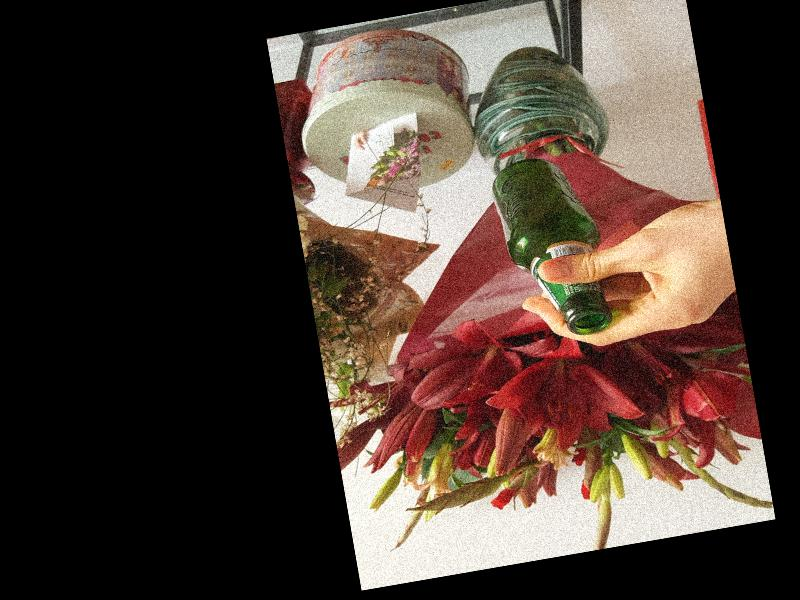Beer: (487, 149, 615, 345)
